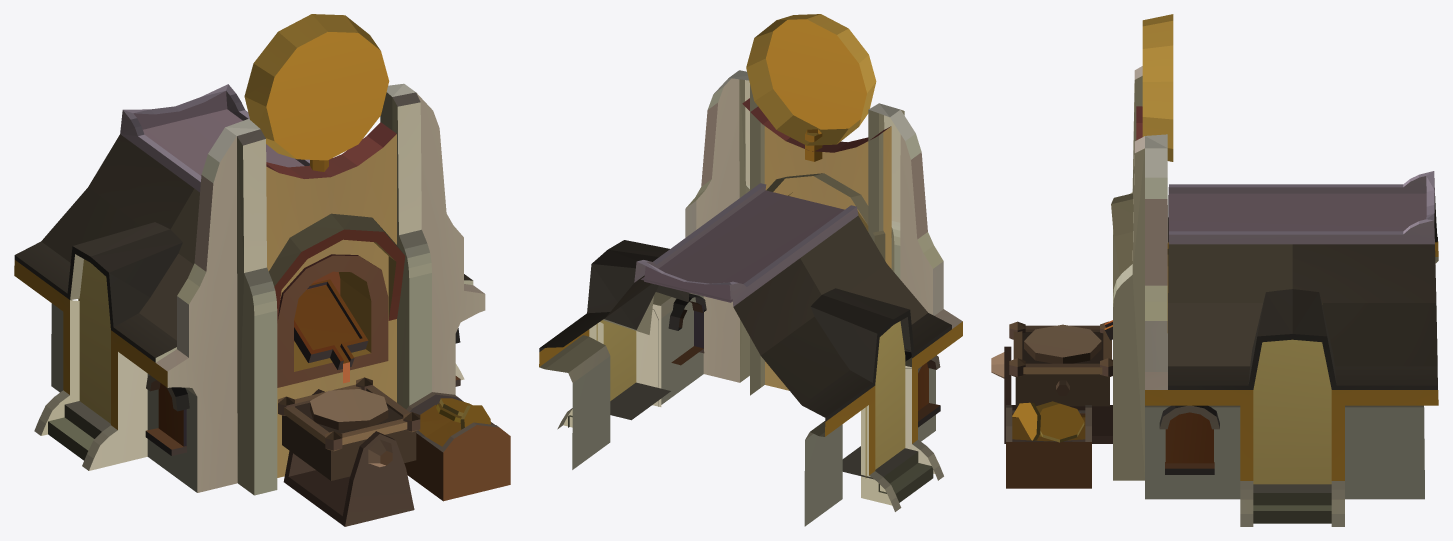
The model's file is building08.fbx.
The picture shows the model from 3 angles, left to right: view 1: azimuth 30°, elevation 25°; view 2: azimuth 150°, elevation 25°; view 3: azimuth 270°, elevation 25°; orthographic projection. The views are drawn at different scales.
Parts seen in each view (by area): view 1: building08; view 2: building08; view 3: building08.
Boxes of the visible parts, left/top/right/bottom form: building08: left=14, top=14, right=510, bottom=526; building08: left=539, top=14, right=962, bottom=526; building08: left=991, top=14, right=1438, bottom=526.
Size of the model in its own units: 1.88 by 2.08 by 2.02.
1 material, 1 textured.
